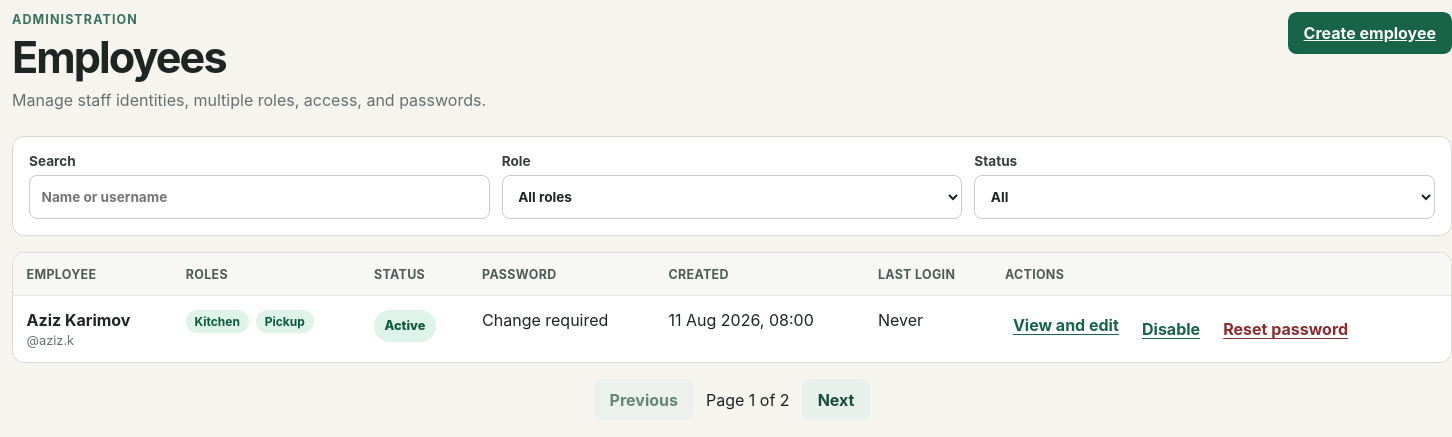
Scenario: employee management administration › loads, searches, filters, paginates, and renders responsive employee rows
The width and height of the screenshot is (1452, 437).
expect the text "Aziz Karimov" is shown: met, box [27,310,130,330]
expect the text "Change required" is shown: met, box [468,296,655,362]
In the search field labelled "Search": (259, 197) [29,175,490,219], type "aziz"
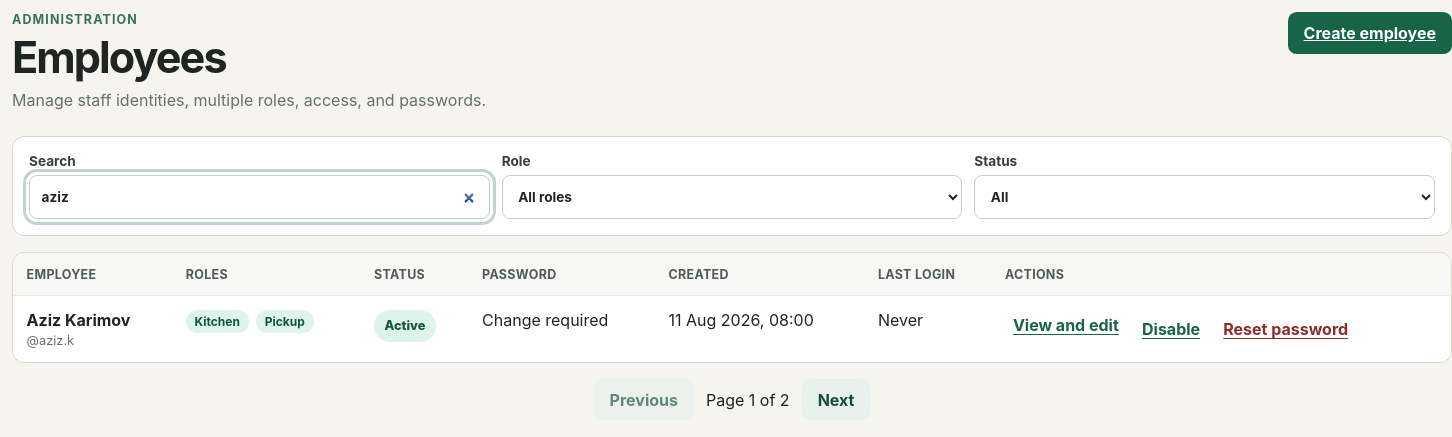
Select "Kitchen" in the dropdown labelled "Role": (732, 197) [502,175,962,219]
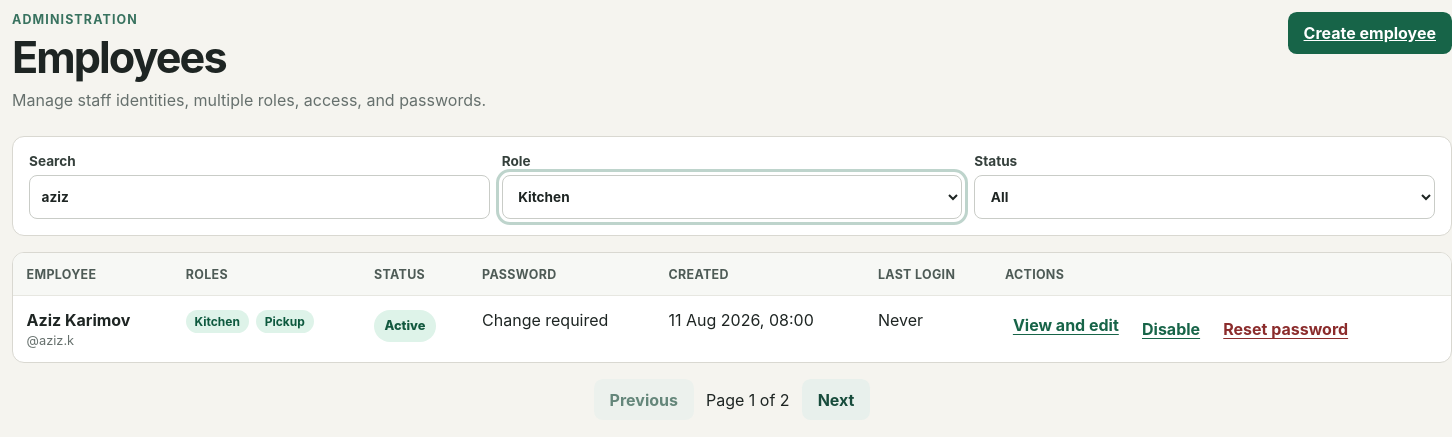
Select "Active" in the dropdown labelled "Status": (1205, 197) [974,175,1435,219]
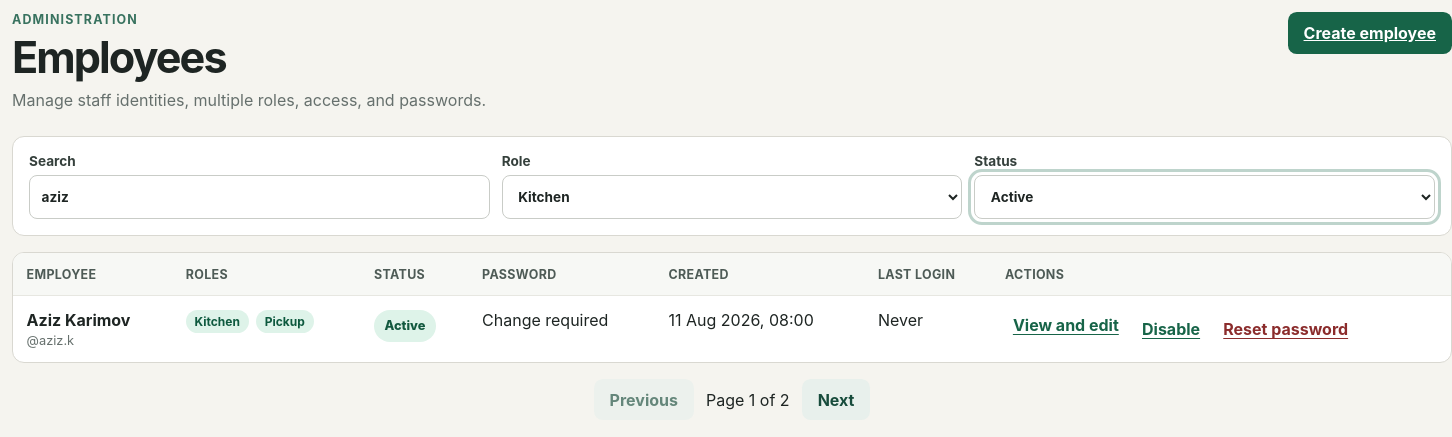
Click the button "Next": (836, 400) [802,379,870,420]
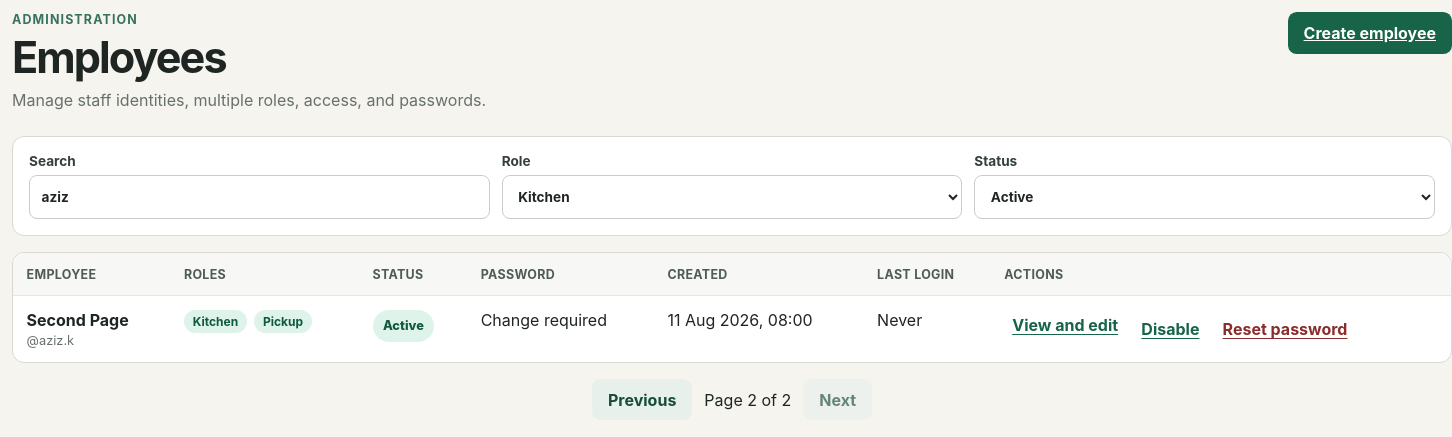
expect the text "Second Page" is shown: met, box [27,310,129,330]
